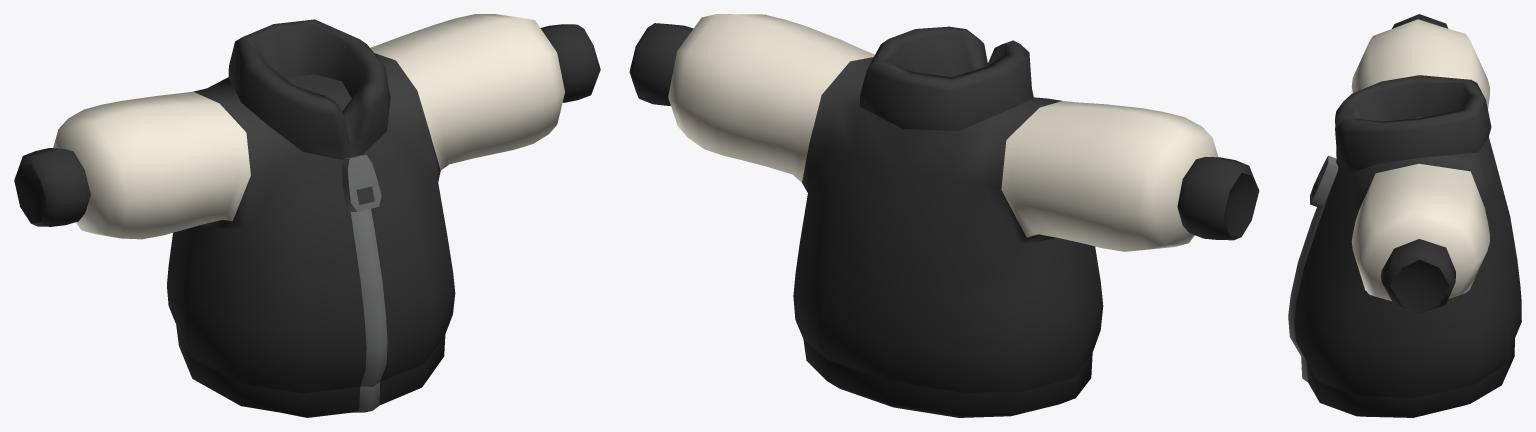
Rendered from Top_27.fbx.
The picture shows the model from 3 angles, left to right: view 1: azimuth 30°, elevation 25°; view 2: azimuth 150°, elevation 25°; view 3: azimuth 270°, elevation 25°; orthographic projection. The views are drawn at different scales.
Parts seen in each view (by area): view 1: Top_27; view 2: Top_27; view 3: Top_27.
Boxes of the visible parts, x1,y1,x2,y2 form: Top_27: (14,14,600,417); Top_27: (629,14,1259,417); Top_27: (1288,14,1521,417).
Size of the model in its own units: 95.72 by 53.32 by 38.89.
